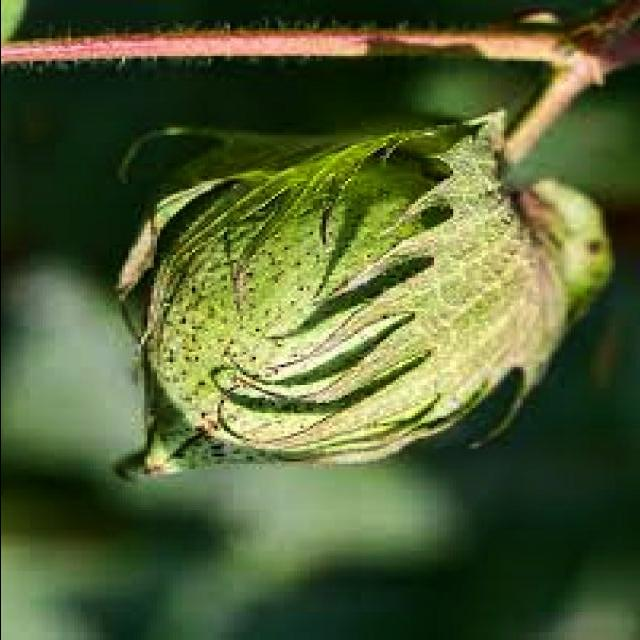Early Boll: (115, 108, 601, 488)
